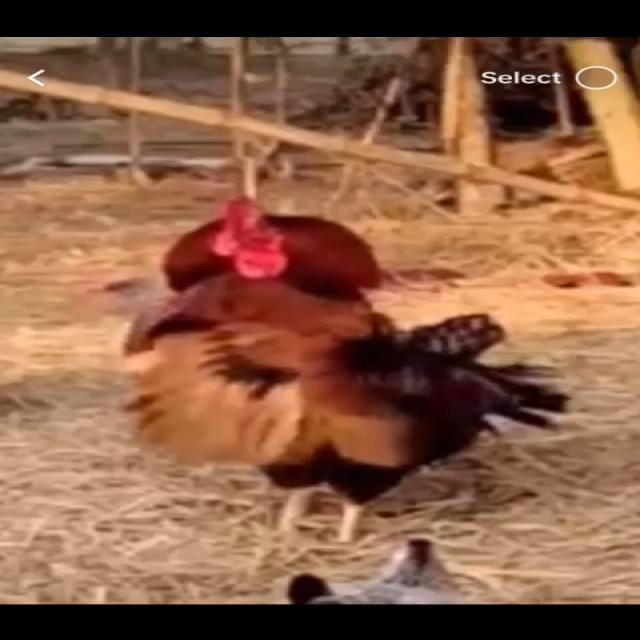wing flap: (70, 190, 583, 553)
